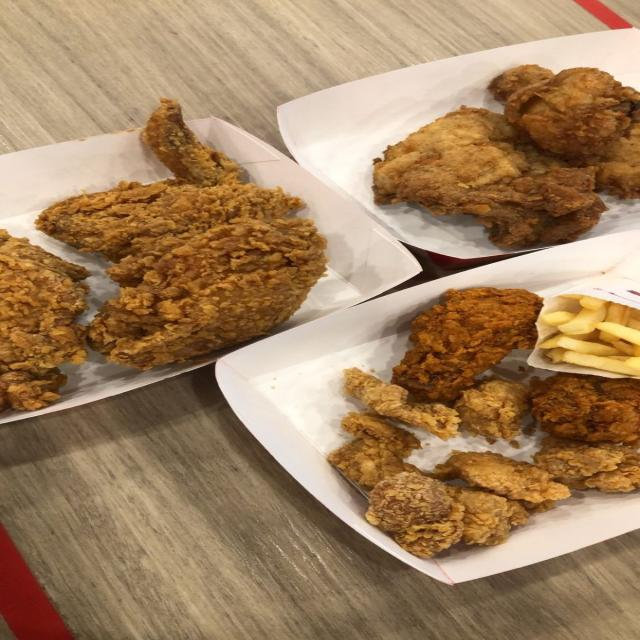Chicken -Fried Chicken-: (108, 218, 346, 383), (356, 105, 604, 262), (33, 114, 323, 230), (332, 414, 568, 556), (375, 294, 543, 396)
